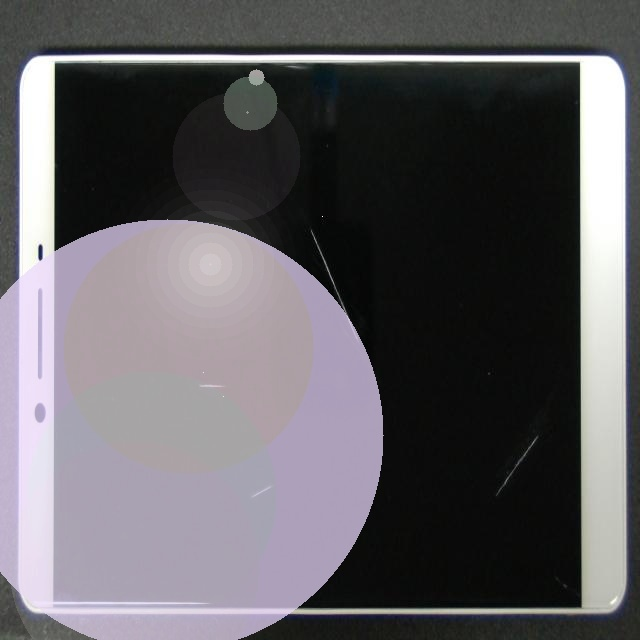scratch: (246, 261, 640, 640), (139, 110, 493, 475), (137, 254, 414, 640), (92, 205, 277, 614)
